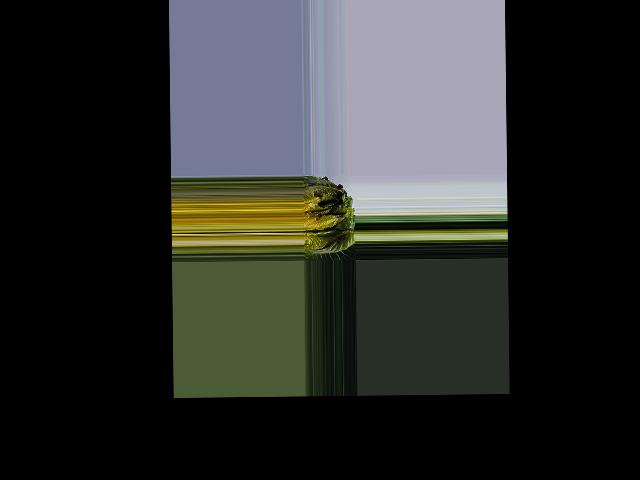lettuce: (302, 178, 353, 260)
